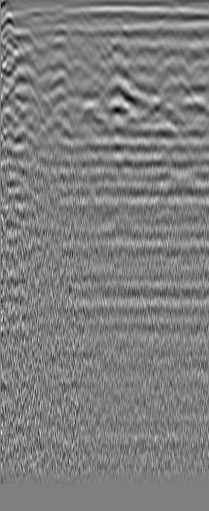오수: (18, 25, 38, 45)
우수: (186, 29, 206, 49)
